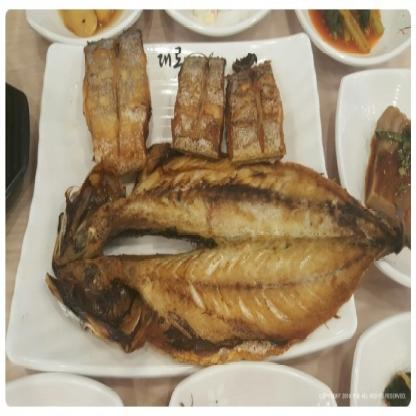Peixe: (46, 161, 405, 354)
